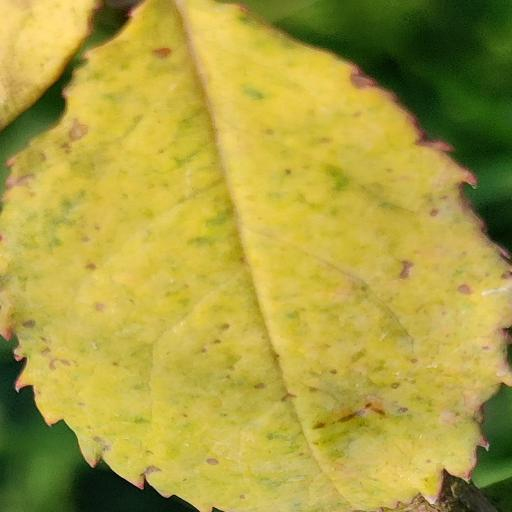red_mite: (0, 0, 511, 512), (192, 214, 201, 222)
